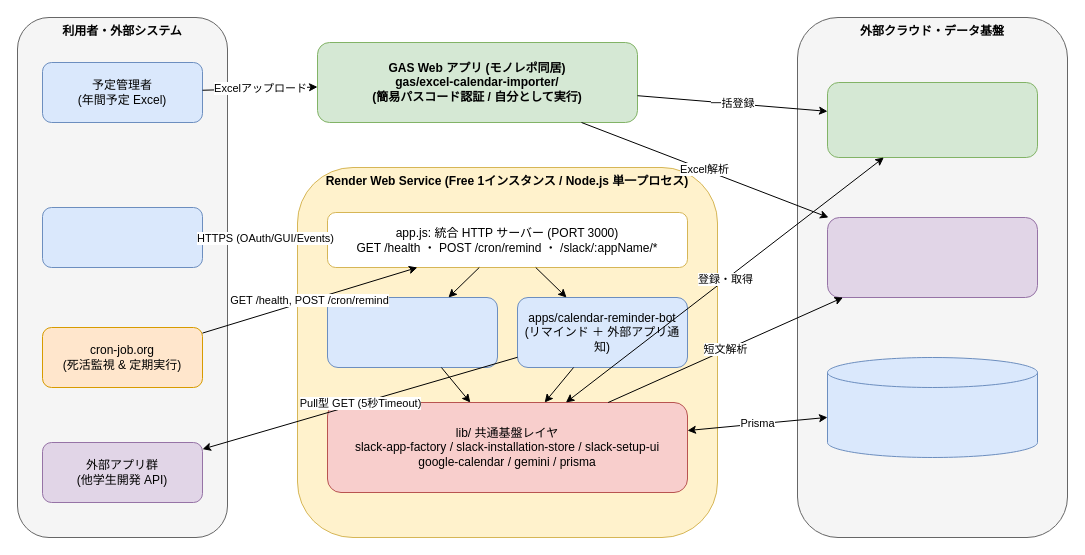
Image size: 1085x555. Some labels were removed from this diagram. The shapes that lost their labels are listed below. From the top down, each one's centre as x and y in pixels, then its label:
At point (932, 120): "Google カレンダー (単一データハブ / 案A 共有方式)".
At point (122, 237): "学生・教員 (複数 Slack ワークスペース)".
At point (932, 257): "Google Gemini API GAS: gemini-3.8-flash Bot: gemini-3.5-flash-lite".
At point (412, 332): "apps/message-calendar-bot (リアクション起点 予定登録/削除)".
At point (932, 407): "MySQL 互換 DB 開発: XAMPP / 本番: TiDB Cloud (OAuthトークン / 設定 / 通知済ID)".
